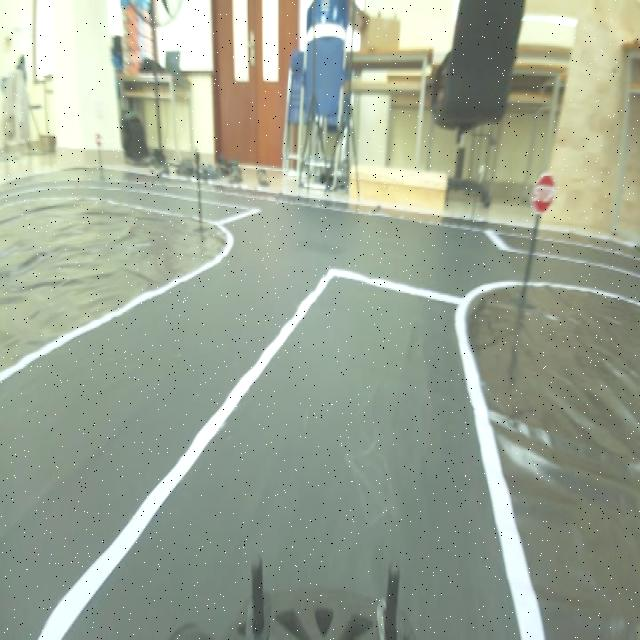stop: (527, 166, 559, 224)
